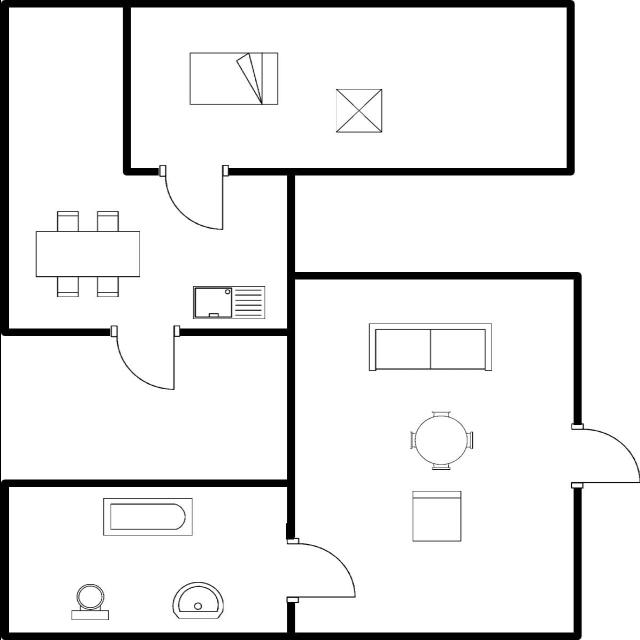bed: (184, 47, 282, 109)
coffee_table: (332, 83, 386, 136)
dining_table: (31, 206, 145, 302)
large_sink: (66, 579, 111, 625)
large_sofa: (362, 316, 498, 374)
round_table: (404, 406, 476, 477)
sink: (186, 282, 268, 322)
small_sink: (167, 576, 228, 622)
small_sofa: (406, 485, 466, 547)
tub: (97, 493, 198, 540)
